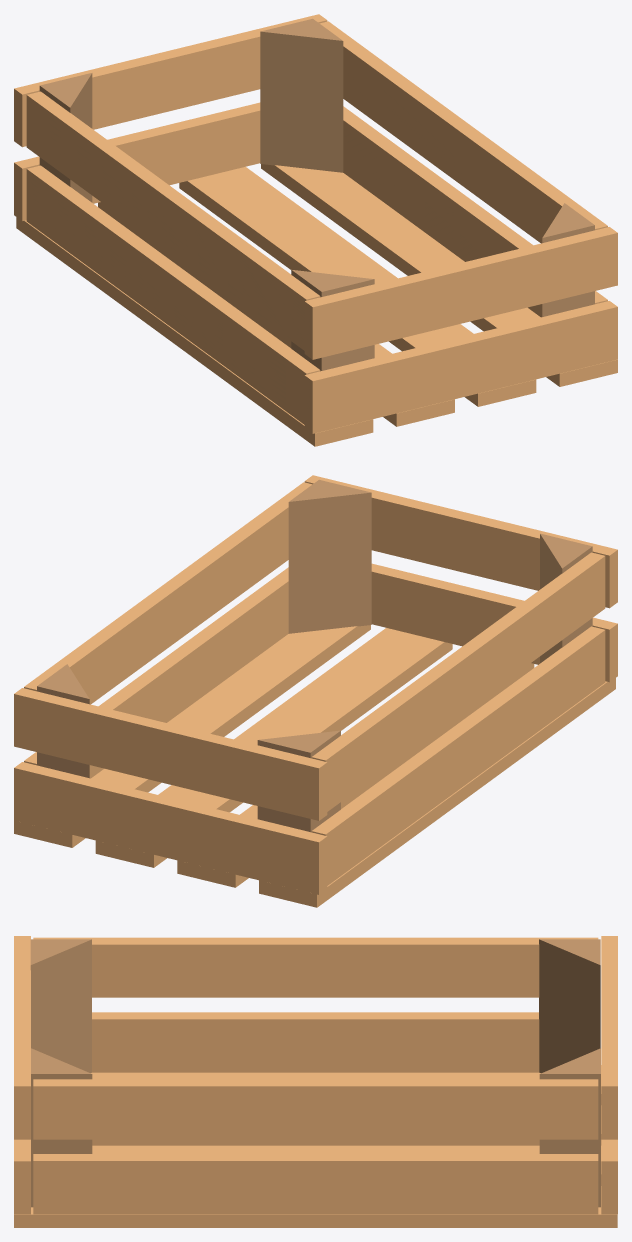
The picture shows the model from 3 angles, top to bottom: view 1: azimuth 30°, elevation 25°; view 2: azimuth 150°, elevation 25°; view 3: azimuth 270°, elevation 25°; orthographic projection.
Visible parts, largest first — view 1: crates.010; view 2: crates.010; view 3: crates.010.
Boxes of the visible parts, x1=… form: crates.010: x1=14, y1=14, x2=617, y2=446; crates.010: x1=14, y1=475, x2=617, y2=907; crates.010: x1=14, y1=936, x2=617, y2=1227.
Size of the model in its own units: 197 by 89.42 by 334.
